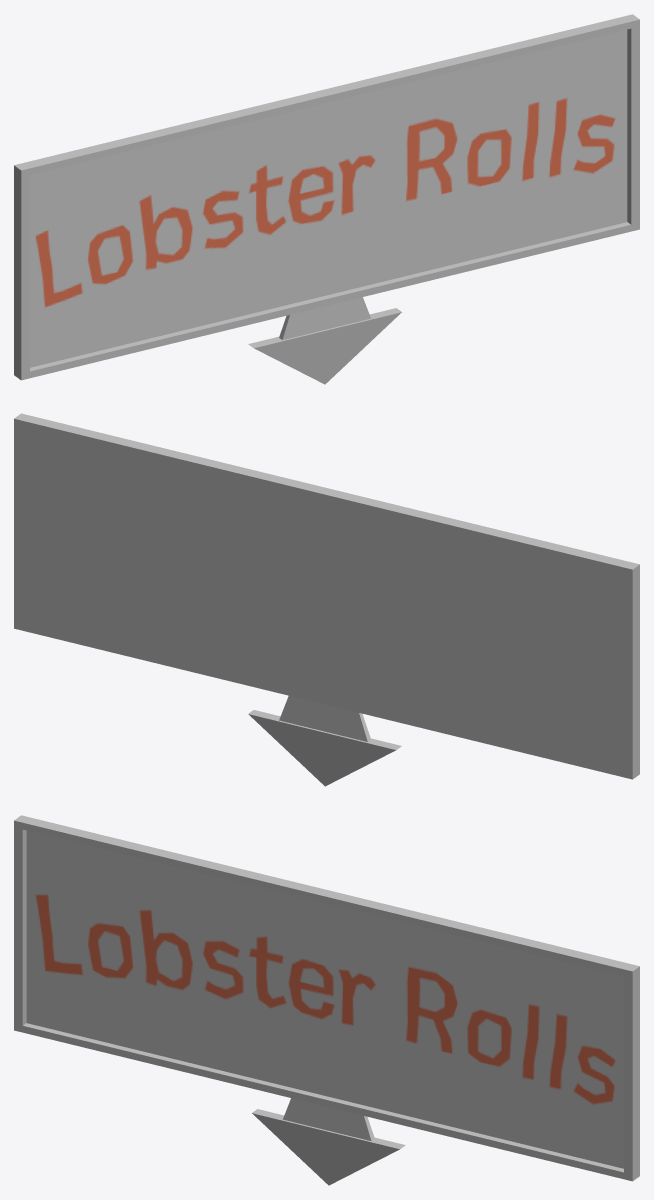
Rendered from Board Beige.fbx.
3 views of the same model, one above another, from view 1: azimuth 30°, elevation 25°; view 2: azimuth 150°, elevation 25°; view 3: azimuth 330°, elevation 25° (orthographic).
Parts seen in each view (by area): view 1: Board Black.001; view 2: Board Black.001; view 3: Board Black.001.
Boxes of the visible parts, left/top/right/bottom form: Board Black.001: left=14, top=14, right=639, bottom=384; Board Black.001: left=14, top=413, right=639, bottom=786; Board Black.001: left=14, top=815, right=639, bottom=1185.
Bounding box in the file's own units: 153 × 69.29 × 3.57.
